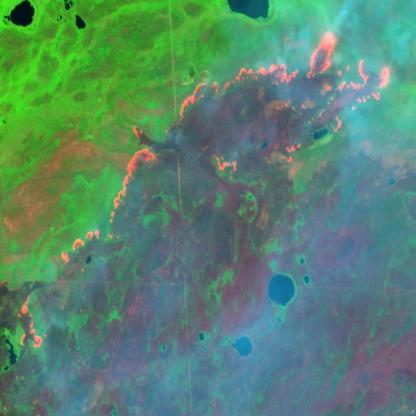fire: (173, 26, 400, 188), (57, 109, 164, 272), (16, 280, 50, 359)
